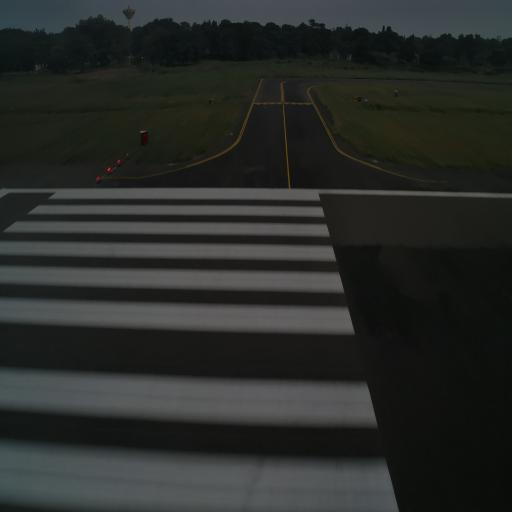on: (106, 164, 112, 174), (95, 174, 100, 182), (117, 158, 122, 164), (126, 152, 129, 157)
